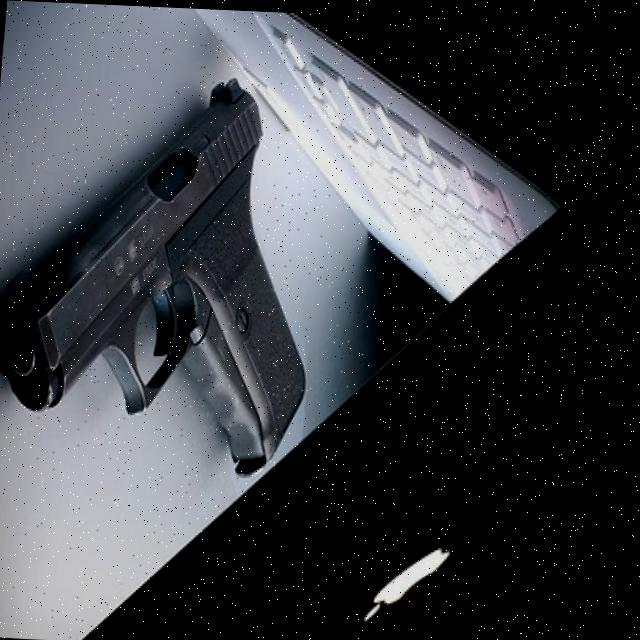pistol: (0, 61, 333, 472)
